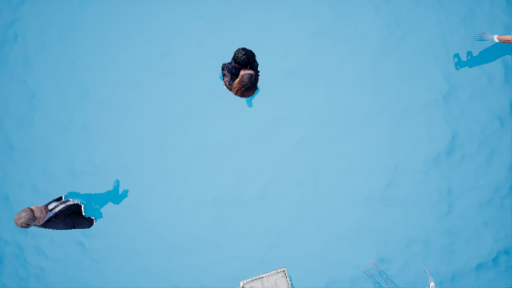person: (11, 182, 119, 235), (206, 41, 269, 110)
